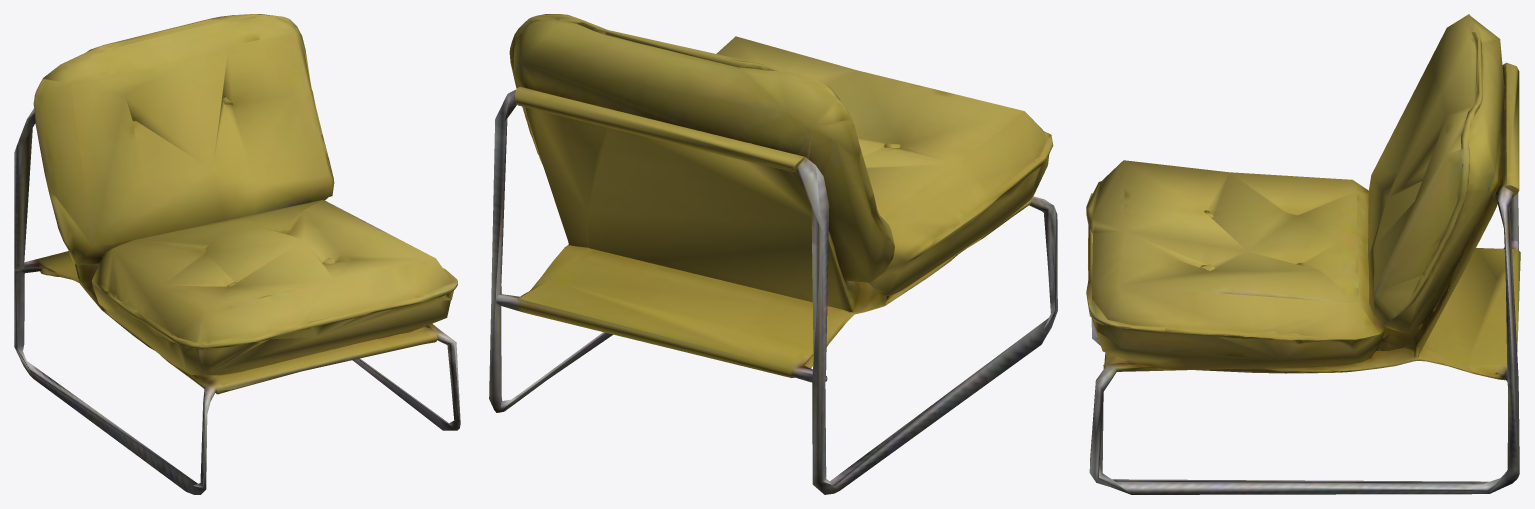
Rendered from armchair.lod2.glb.
3 views of the same model, side by side, from view 1: azimuth 30°, elevation 25°; view 2: azimuth 150°, elevation 25°; view 3: azimuth 270°, elevation 25° (orthographic). The views are drawn at different scales.
Visible parts, largest first — view 1: geometry_0; view 2: geometry_0; view 3: geometry_0.
Boxes of the visible parts, x1=… form: geometry_0: x1=14, y1=14, x2=460, y2=494; geometry_0: x1=489, y1=14, x2=1057, y2=494; geometry_0: x1=1086, y1=14, x2=1520, y2=494.
Bounding box in the file's own units: 0.6978 × 0.769 × 0.8455.
1 material, 1 textured.
